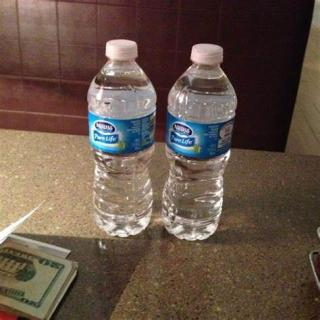Anorganik: (83, 31, 155, 239), (167, 40, 226, 246)
